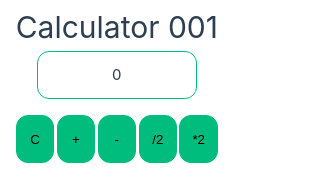
Test: Calculator Module › + operator
Check: the text with id "result" reads "0", box [112,65,122,84]
Click the button with id "sum".
click(76, 139)  # box [57,115,95,163]
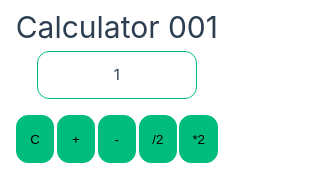
Check: the text with id "result" reads "1", box [114,65,120,84]
